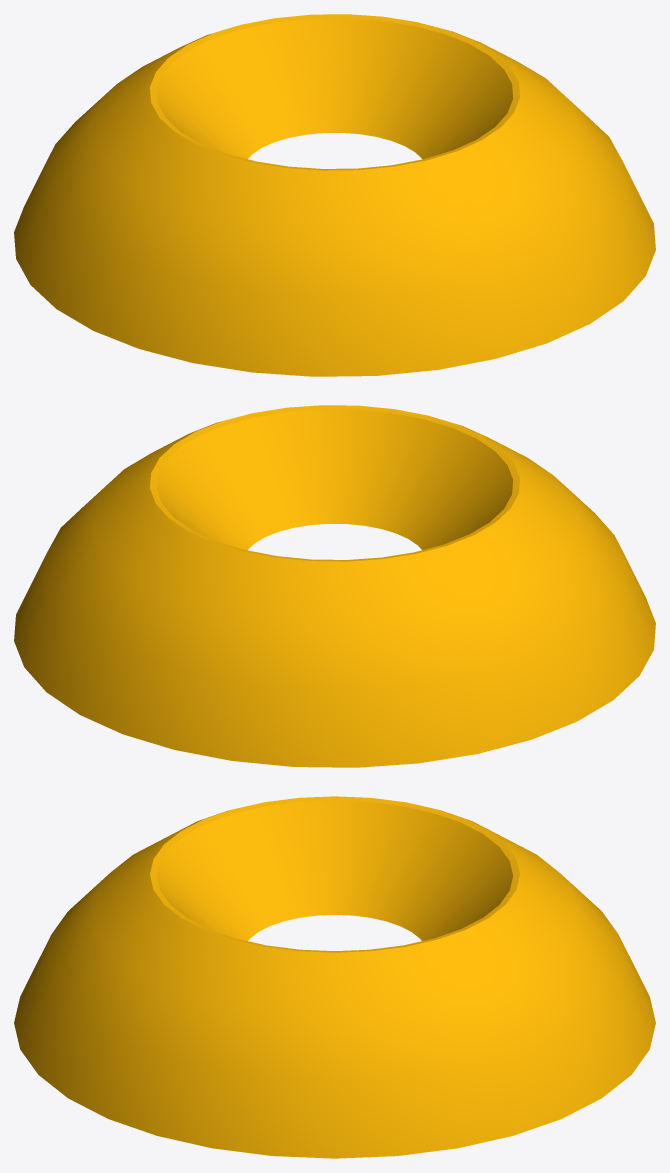
File: Platform.fbx
The picture shows the model from 3 angles, top to bottom: view 1: azimuth 30°, elevation 25°; view 2: azimuth 150°, elevation 25°; view 3: azimuth 270°, elevation 25°; orthographic projection.
Visible parts, largest first — view 1: Circle.001; view 2: Circle.001; view 3: Circle.001.
Part boxes in pixels (x1=…): Circle.001: x1=14, y1=14, x2=655, y2=376; Circle.001: x1=14, y1=405, x2=655, y2=767; Circle.001: x1=14, y1=796, x2=655, y2=1158.
Bounding box in the file's own units: 220 × 56.19 × 220.
